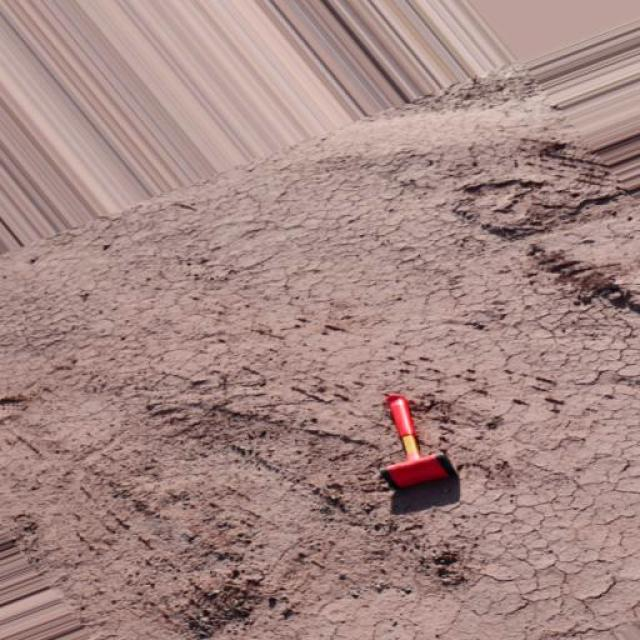mallet: (380, 391, 460, 490)
